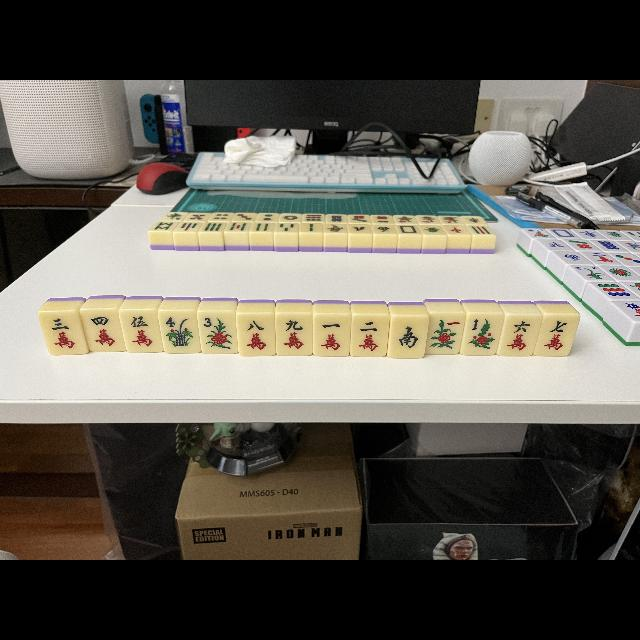c1: (314, 314, 350, 356)
c2: (352, 314, 388, 356)
c3: (38, 310, 86, 356)
c4: (80, 309, 124, 351)
c5: (119, 312, 163, 352)
c6: (500, 314, 538, 356)
c7: (537, 314, 577, 356)
c8: (237, 314, 275, 356)
c9: (276, 313, 312, 355)
f1-s: (463, 314, 499, 354)
f3-s: (198, 311, 238, 354)
f4-s: (158, 311, 202, 353)
s1-s: (430, 312, 462, 354)
ws: (390, 315, 426, 357)
